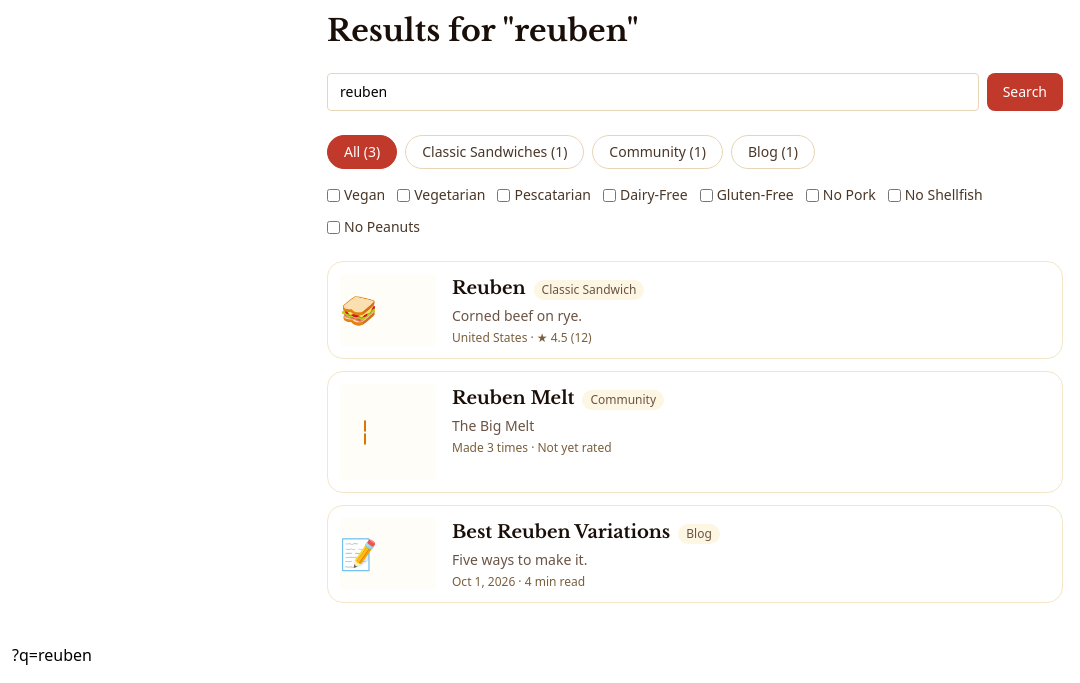
SearchResults › searches again from the search box
Expected: the text "Reuben" is shown, [452,274,526,302]
Replace the text in the search field named "Search" with "cubano": (653, 92) [327,73,979,111]
Then press Enter
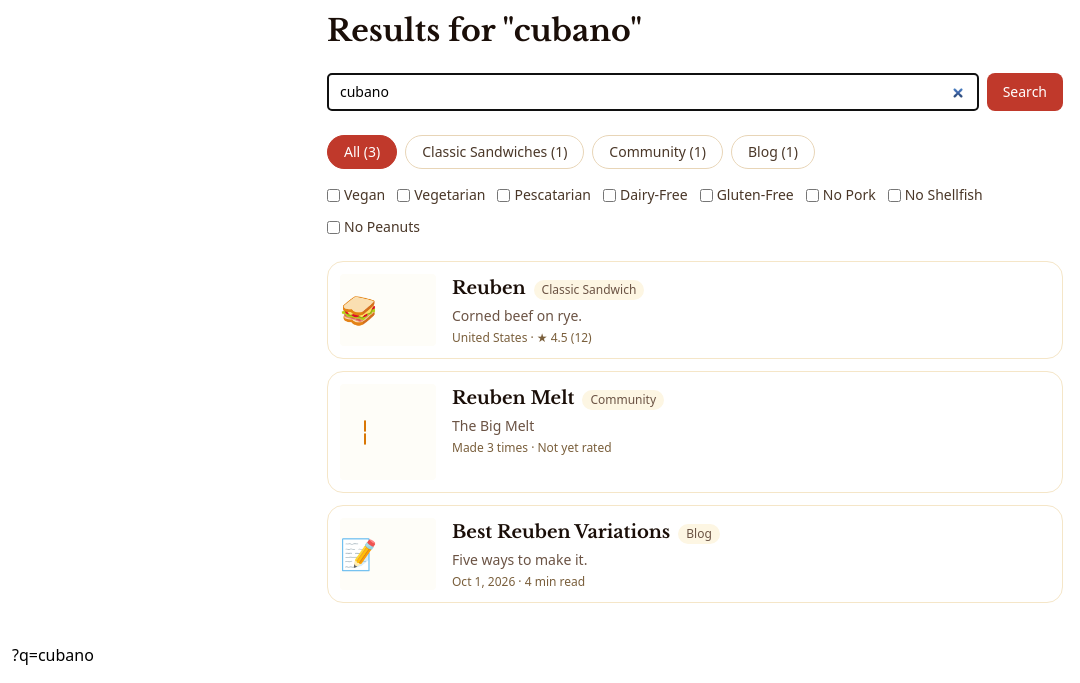
Expected: the text with test id "search" shows "q=cubano", [12,644,94,666]
